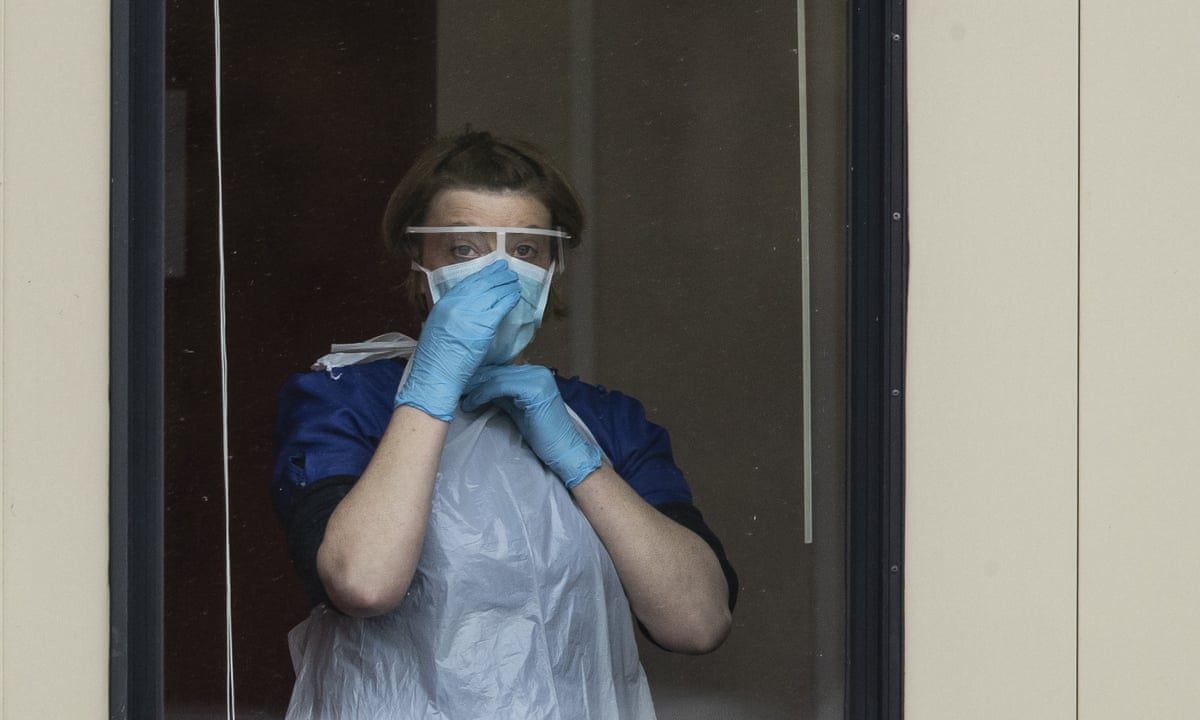Gloves: (406, 267, 513, 401), (462, 367, 602, 452)
with_mask: (429, 236, 553, 360)
